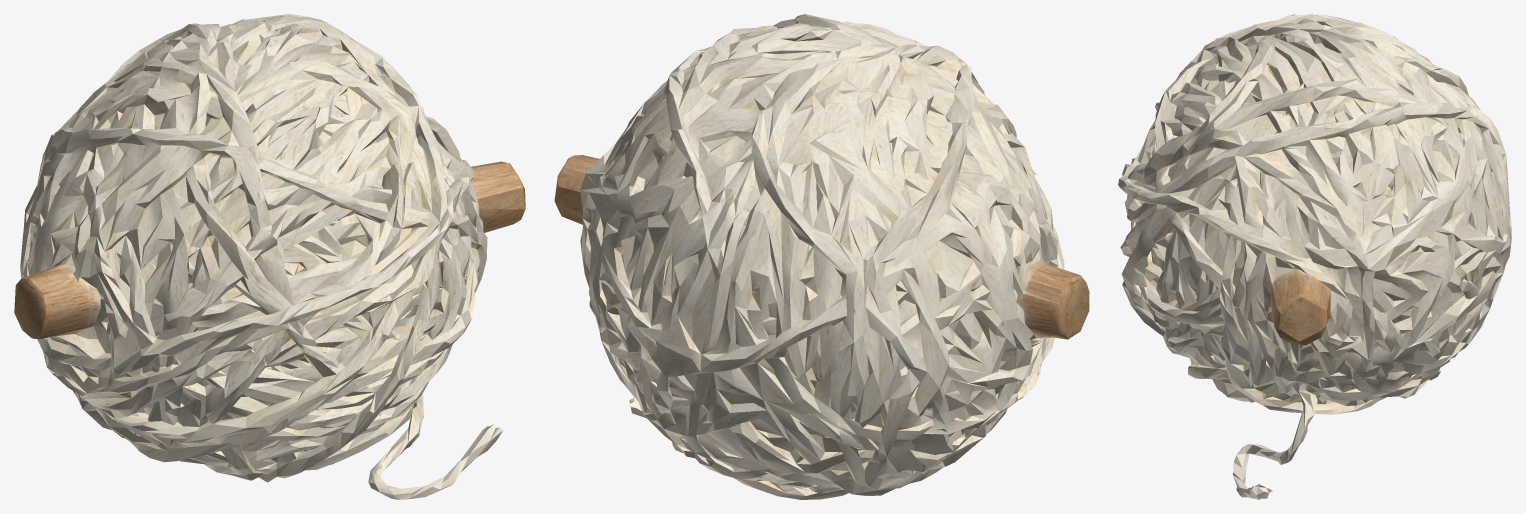
The model's file is w5threadreel.glb.
3 renders of one model, left to right at view 1: azimuth 30°, elevation 25°; view 2: azimuth 150°, elevation 25°; view 3: azimuth 270°, elevation 25°, orthographic. The views are drawn at different scales.
Visible parts, largest first — view 1: output_unwrapped; view 2: output_unwrapped; view 3: output_unwrapped.
Part boxes in pixels (x1,y1,x2,y2): output_unwrapped: (14, 14, 525, 499); output_unwrapped: (554, 14, 1089, 499); output_unwrapped: (1118, 14, 1511, 499).
Bounding box in the file's own units: 0.1 × 0.09 × 0.0799.
Materials: 1 (1 with a texture image).
